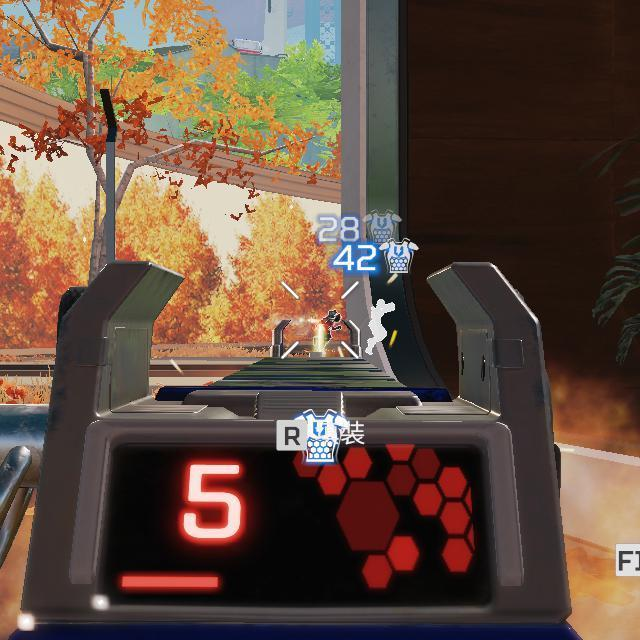avatar: (312, 309, 343, 356)
